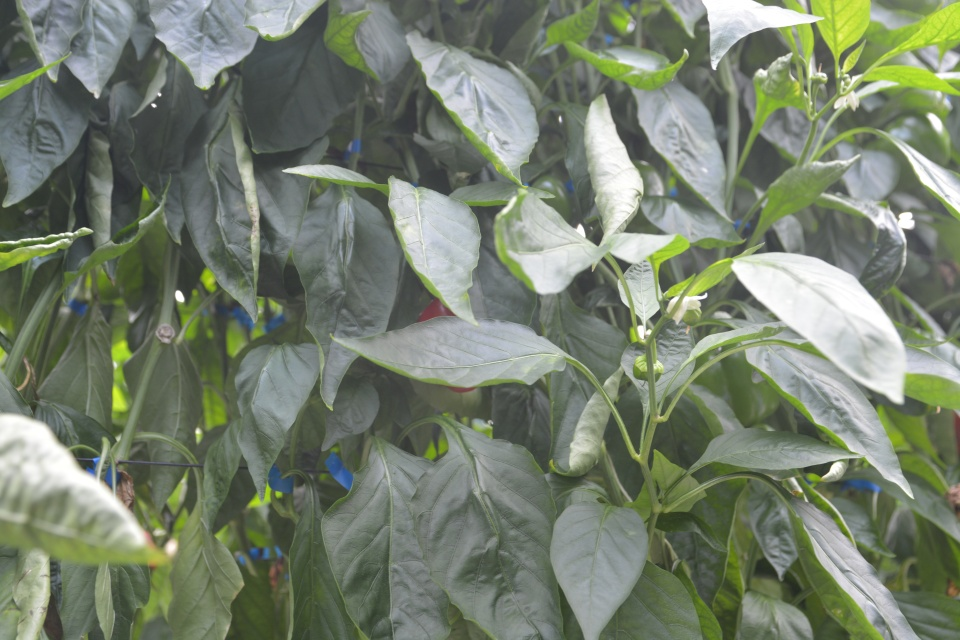flower: (665, 292, 709, 324), (832, 88, 861, 113)
fruit: (862, 108, 953, 194), (416, 298, 479, 394), (629, 158, 667, 227), (529, 172, 573, 226)
immature: (630, 352, 664, 384), (681, 307, 702, 327), (809, 69, 829, 85)
